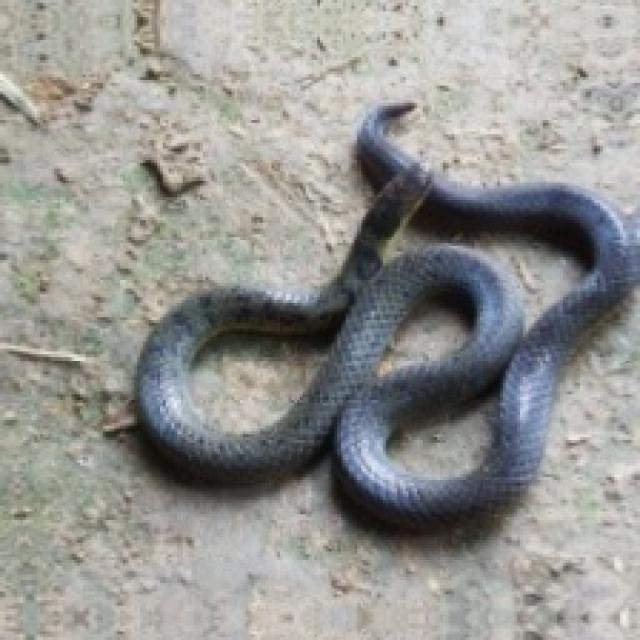luzon dwarf snake: (137, 103, 637, 523), (374, 197, 591, 337), (186, 320, 340, 434), (383, 371, 503, 477), (371, 289, 474, 377)
